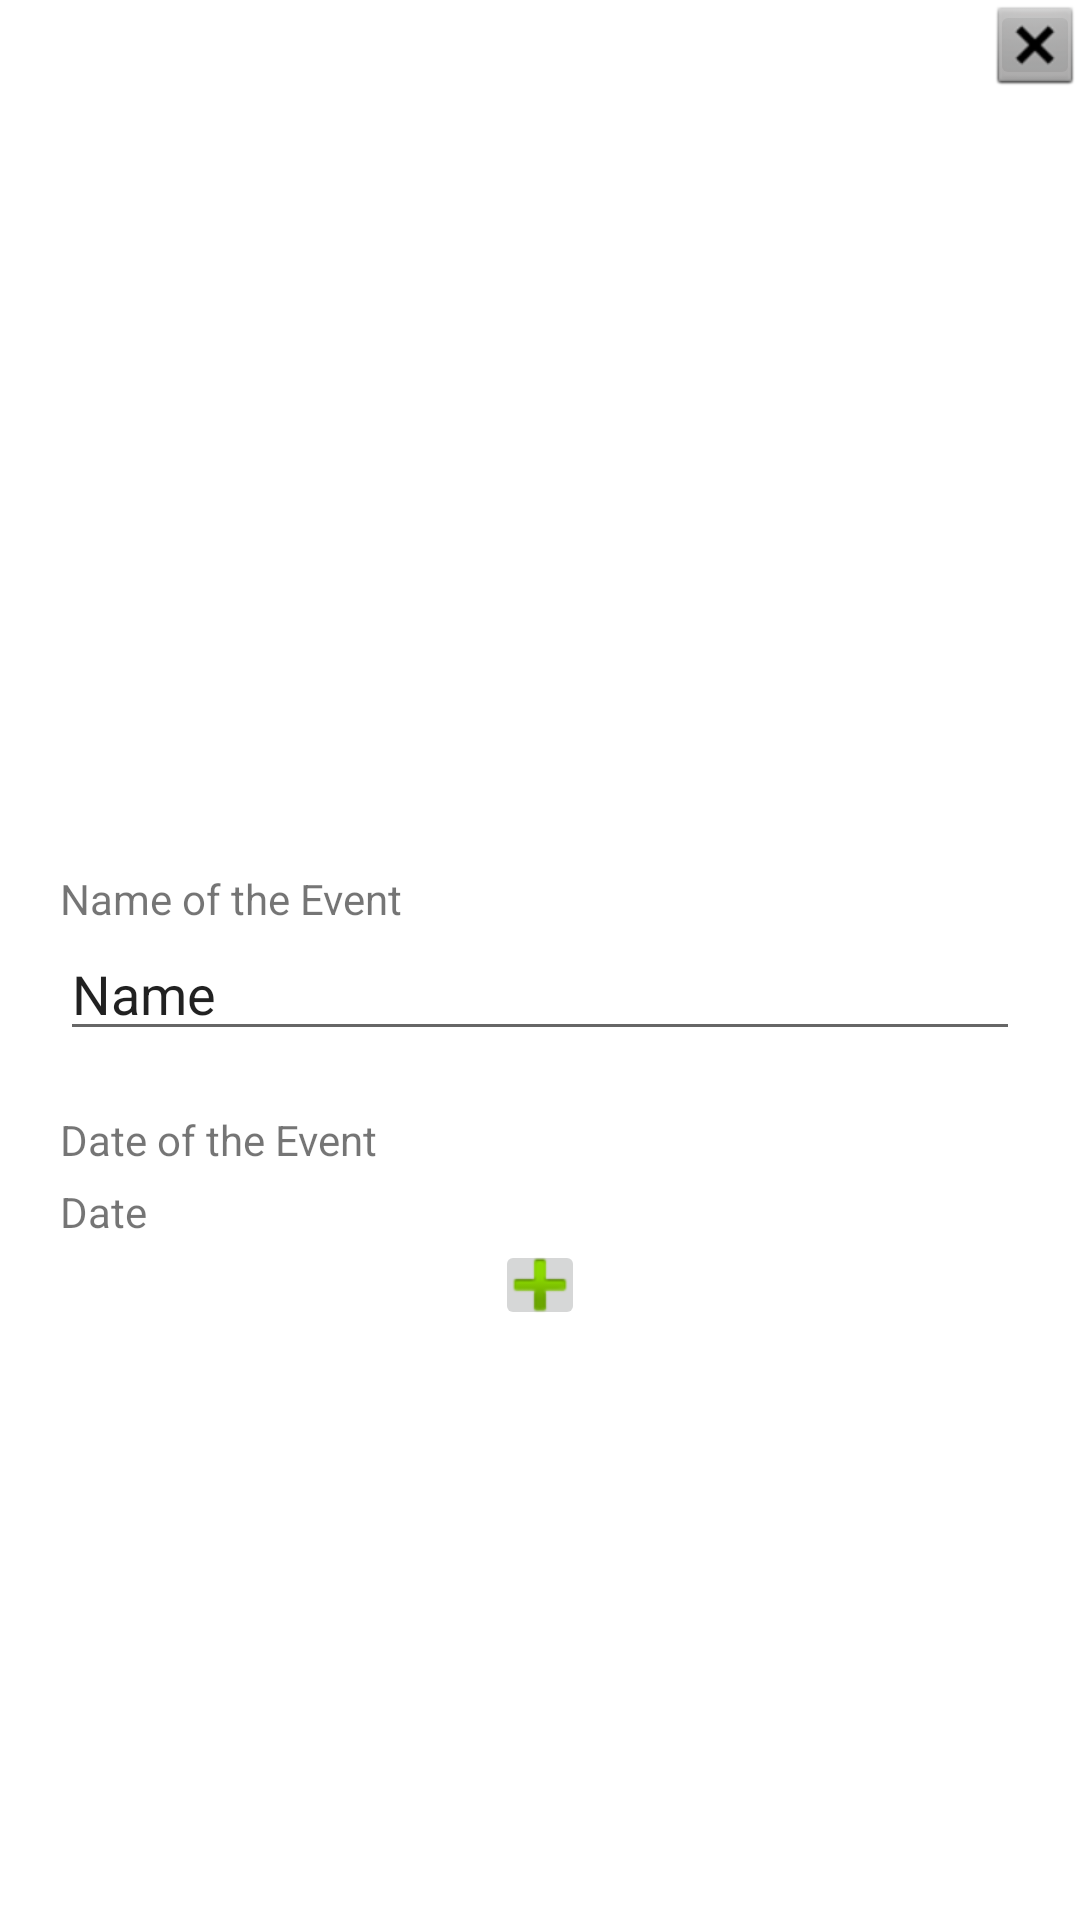

Screen size 1080*1920. Icon name, then its center in pixels as (x,y):
add: (540,1285)
